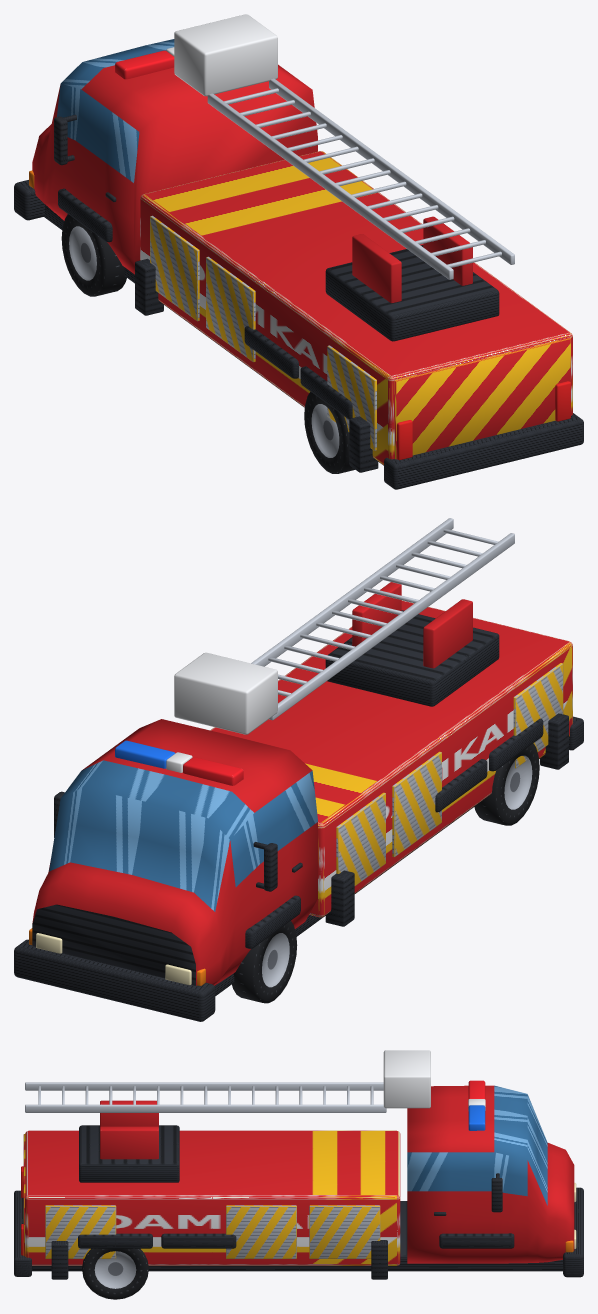
The model's file is mobil_damkar_tangga.fbx.
3 renders of one model, top to bottom at view 1: azimuth 30°, elevation 25°; view 2: azimuth 150°, elevation 25°; view 3: azimuth 270°, elevation 25°, orthographic. The views are drawn at different scales.
Parts seen in each view (by area): view 1: ShellBody, WheelPiece; view 2: ShellBody, WheelPiece; view 3: ShellBody.
Part boxes in pixels (left/top/right/bottom): ShellBody: left=14, top=14, right=583, bottom=489; WheelPiece: left=61, top=214, right=126, bottom=296; ShellBody: left=14, top=518, right=583, bottom=1021; WheelPiece: left=232, top=921, right=297, bottom=1003; ShellBody: left=14, top=1050, right=583, bottom=1299.
Size of the model in its own units: 7.9 by 9.4 by 24.
Materials: 1 (1 with a texture image).
